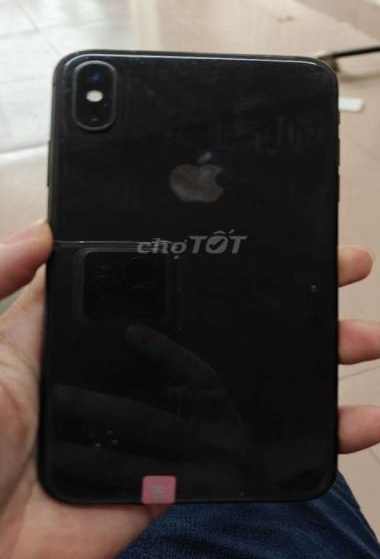scratch: (68, 44, 234, 93), (289, 46, 345, 99), (80, 413, 134, 465), (223, 485, 263, 508), (300, 269, 323, 300)
